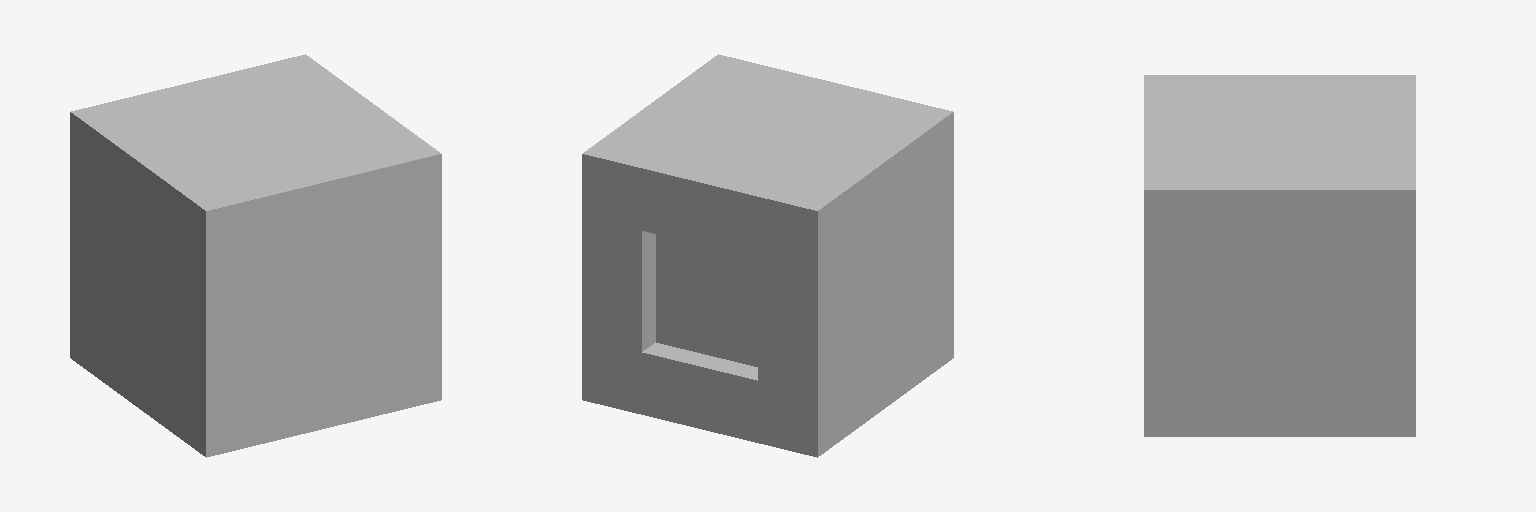
Rendered from wall-a-window.obj.
The picture shows the model from 3 angles: view 1: azimuth 30°, elevation 25°; view 2: azimuth 150°, elevation 25°; view 3: azimuth 270°, elevation 25°; orthographic projection.
Visible parts, largest first — view 1: wall-a-window; view 2: wall-a-window; view 3: wall-a-window.
Boxes of the visible parts, <box> form: wall-a-window: <box>70,54,441,457</box>; wall-a-window: <box>582,54,953,457</box>; wall-a-window: <box>1144,75,1415,436</box>.
Size of the model in its own units: 1 by 1 by 1.